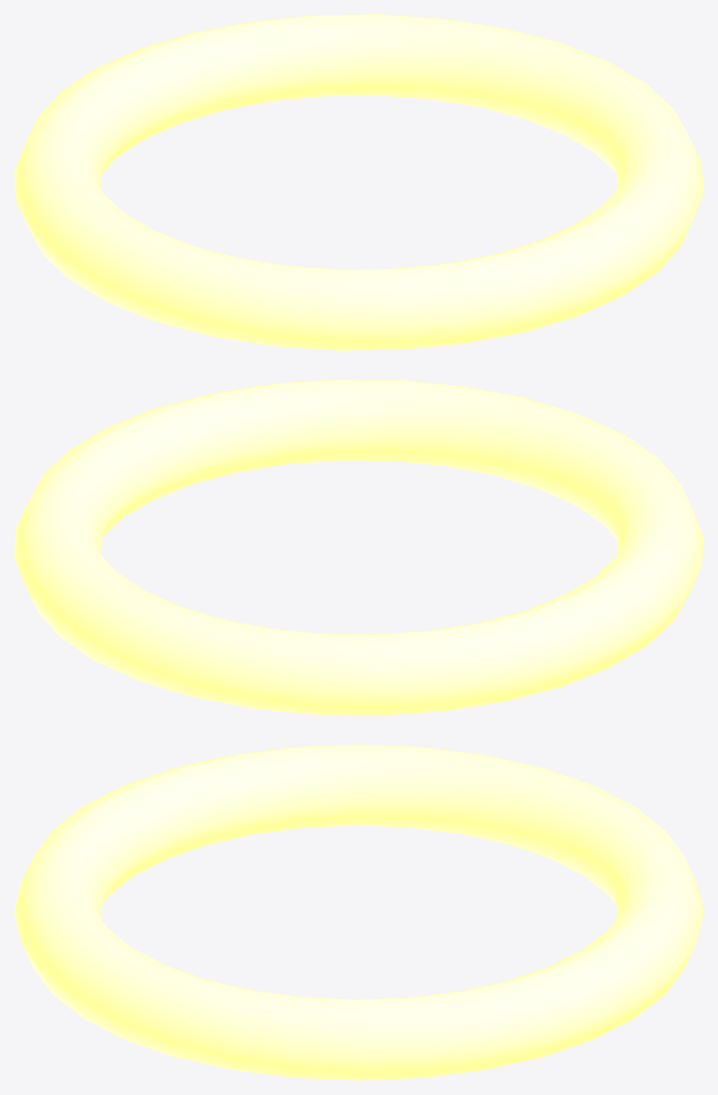
Rendered from x_hat_halo.glb.
3 renders of one model, top to bottom at view 1: azimuth 30°, elevation 25°; view 2: azimuth 150°, elevation 25°; view 3: azimuth 270°, elevation 25°, orthographic.
Parts seen in each view (by area): view 1: hat_halo; view 2: hat_halo; view 3: hat_halo.
Boxes of the visible parts, <box> form: hat_halo: <box>14,14,703,350</box>; hat_halo: <box>14,379,703,715</box>; hat_halo: <box>14,744,703,1080</box>.
Bounding box in the file's own units: 0.96 × 0.12 × 0.96.
